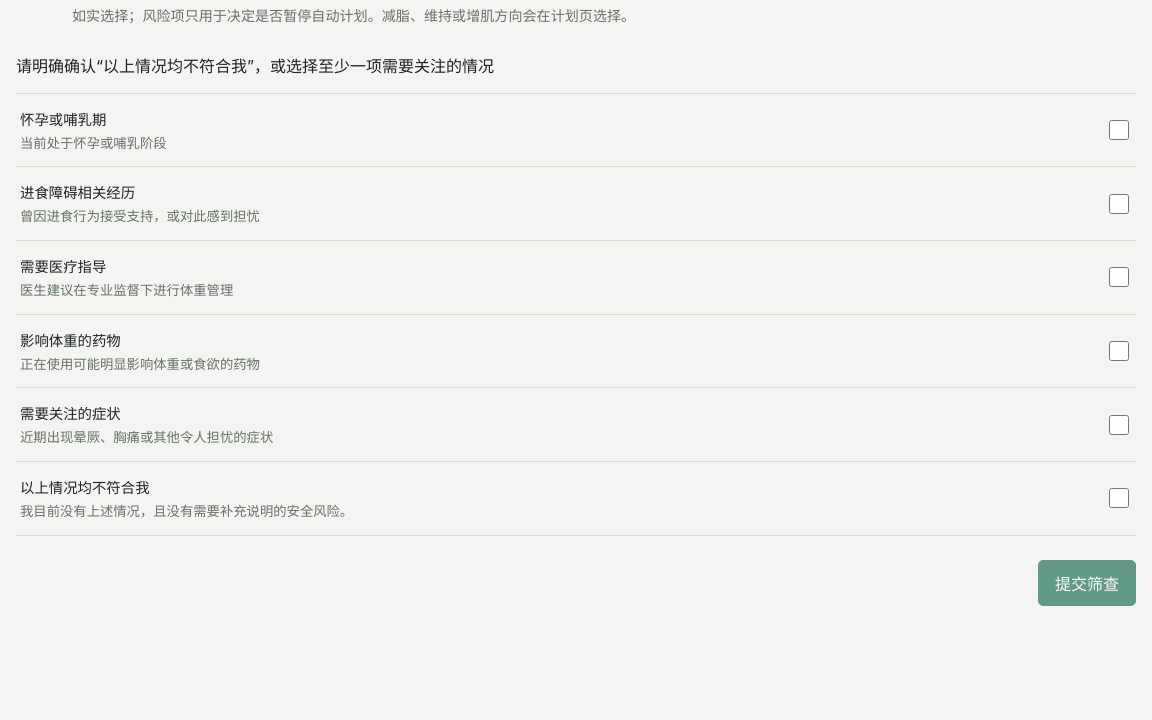
Test: account experience › requires an explicit no-risk confirmation before submitting an empty safety screen
This screenshot has width=1152, height=720.
(page scrolled)
expect the text "请明确确认“以上情况均不符合我”，或选择至少一项需要关注的情况" is shown: met, box [16,56,494,76]
expect the button "提交筛查" is disabled: met, box [1038,560,1136,606]
Click the checkbox labelled "以上情况均不符合我" at (1119, 498), box [1109,488,1129,508]
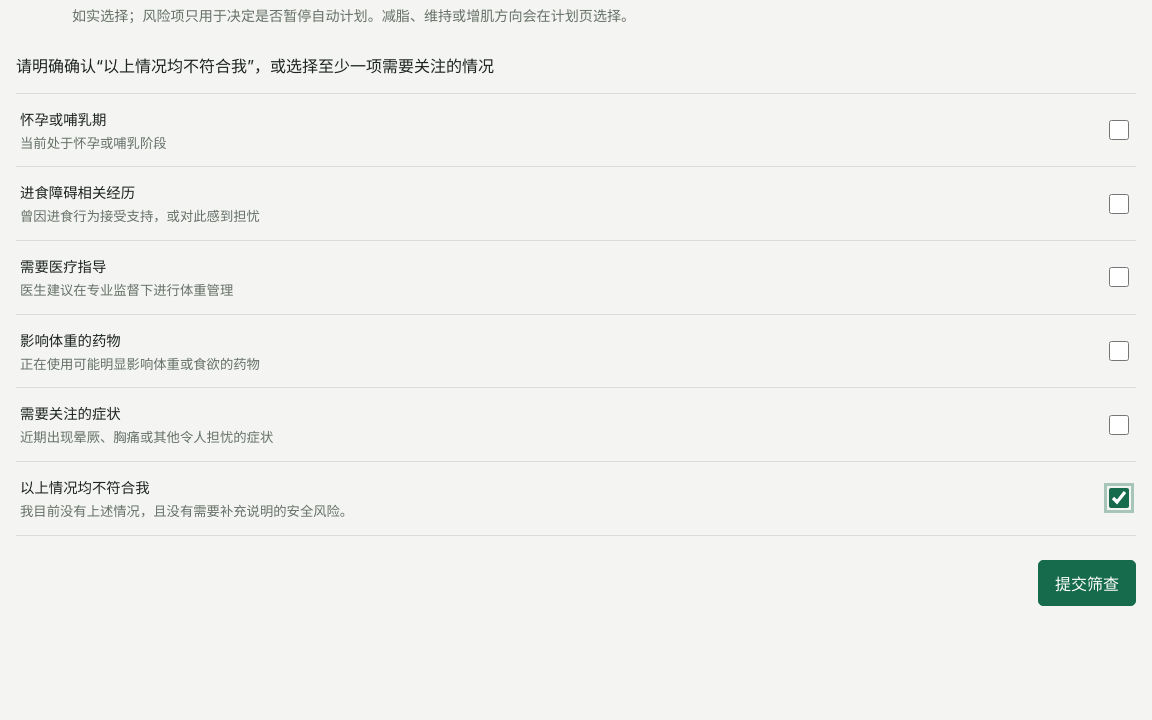
expect the button "提交筛查" is enabled: met
Click the button "提交筛查" at (1087, 583), box [1038,560,1136,606]
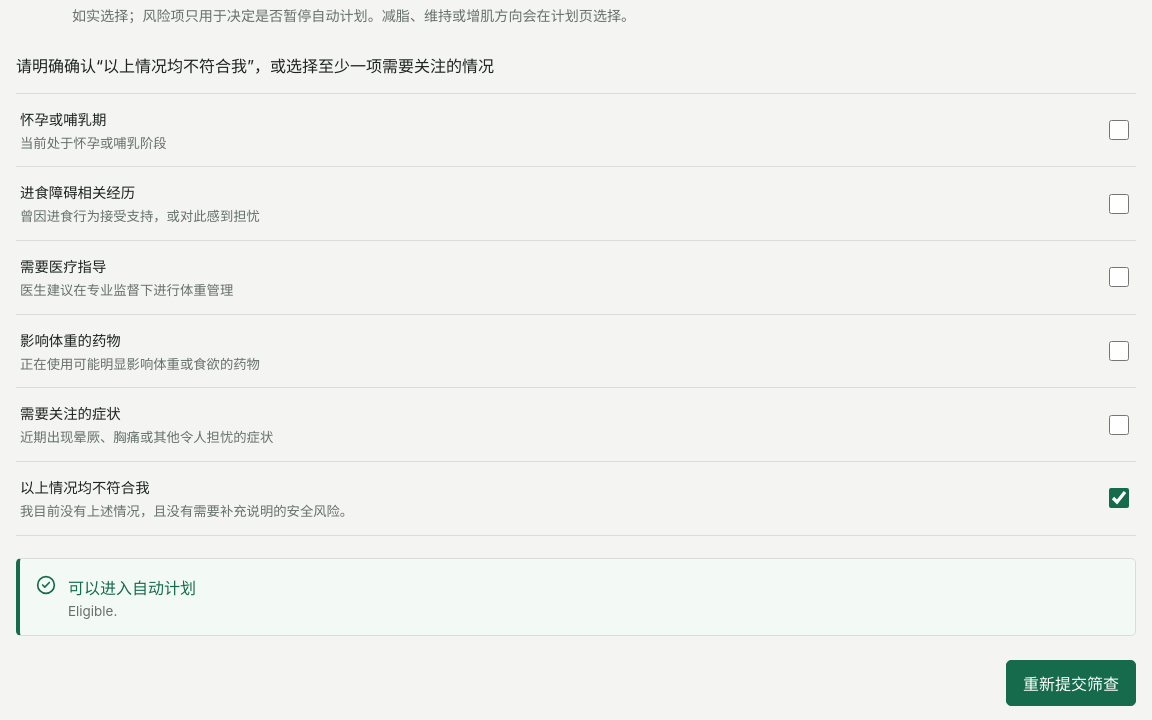
expect the text "可以进入自动计划" is shown: met, box [68,575,196,599]
